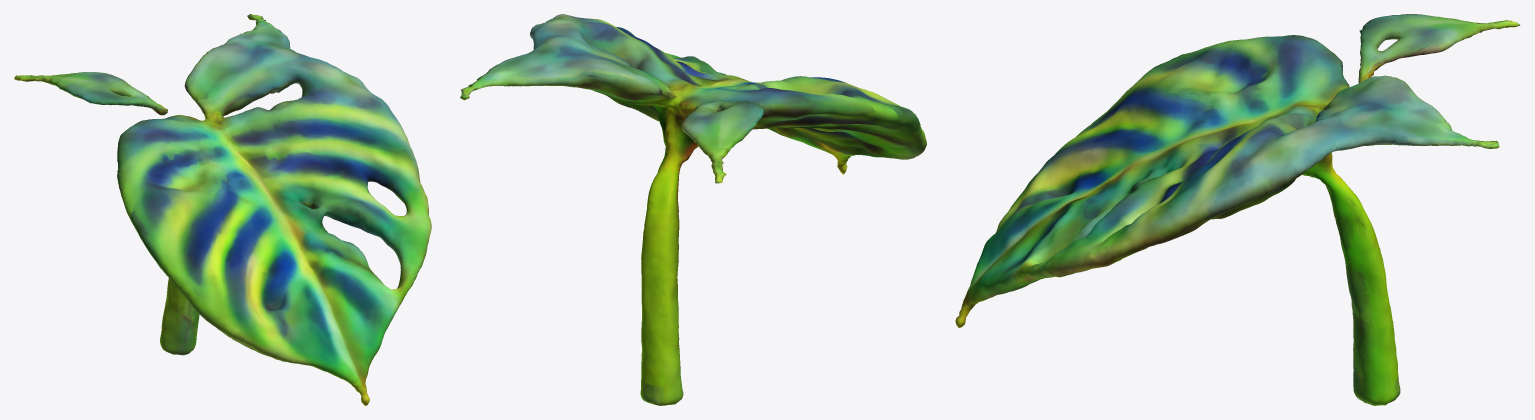
The model's file is monsterra_deliciosa_p_0713205022_refine.fbx.
The picture shows the model from 3 angles, left to right: view 1: azimuth 30°, elevation 25°; view 2: azimuth 150°, elevation 25°; view 3: azimuth 270°, elevation 25°; orthographic projection. The views are drawn at different scales.
Visible parts, largest first — view 1: Mesh_0; view 2: Mesh_0; view 3: Mesh_0.
Boxes of the visible parts, left/top/right/bottom form: Mesh_0: left=14, top=14, right=431, bottom=405; Mesh_0: left=460, top=14, right=926, bottom=405; Mesh_0: left=955, top=14, right=1520, bottom=405.
Bounding box in the file's own units: 84.41 × 80.94 × 120.
Materials: 1 (1 with a texture image).
